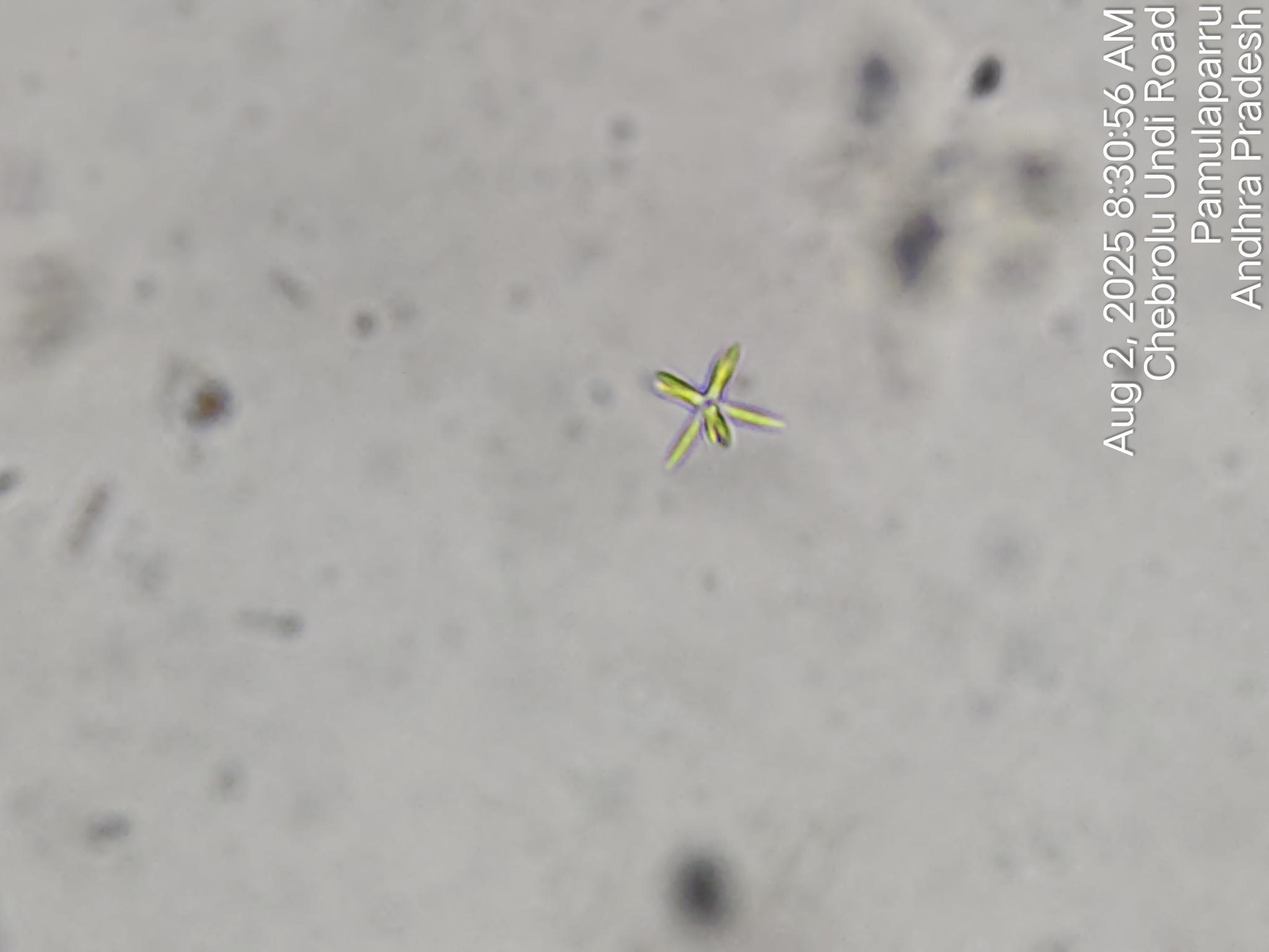Scenedesmus: (464, 635, 617, 784)
